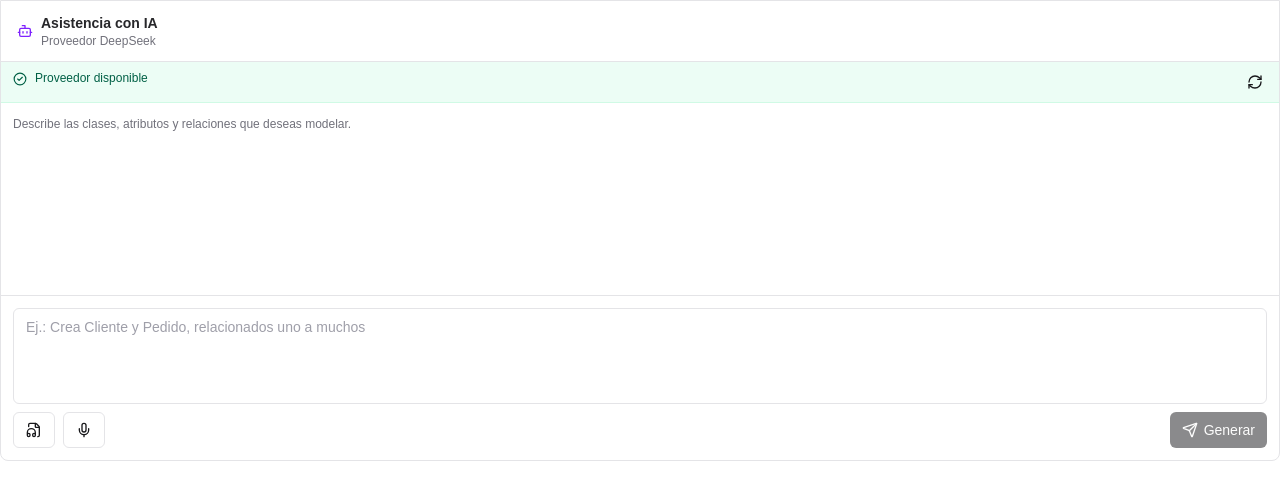
Test: AiAssistantPanel micrófono › usa el servidor como fallback si lo local falla
Expected: the text "Proveedor disponible" is shown, left=35, top=71, right=148, bottom=85
Click the button named "Grabar del micrófono" at (84, 430), box left=63, top=412, right=105, bottom=448
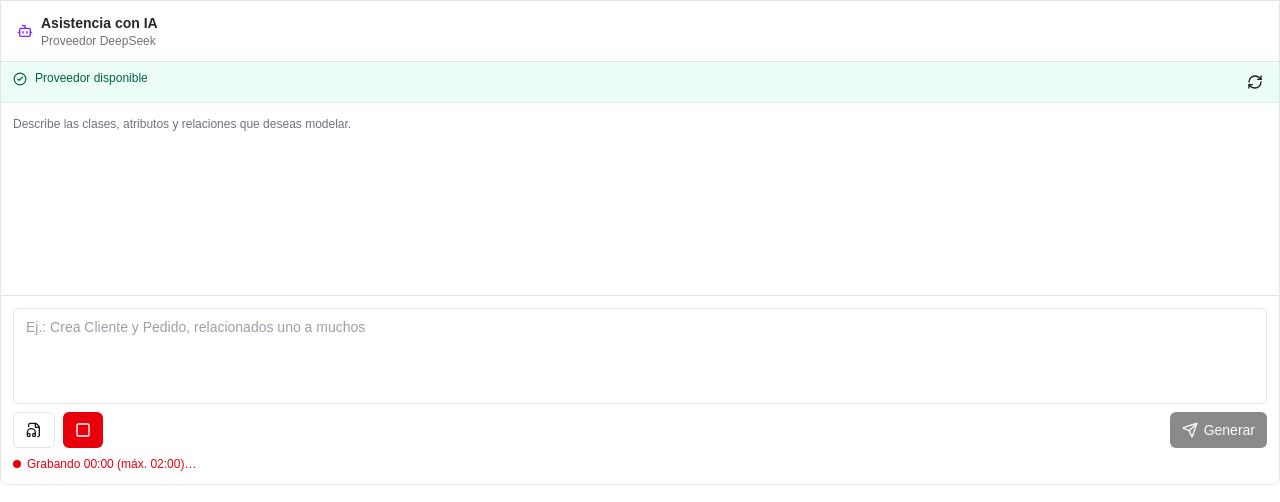
Expected: the button named "Detener grabación" is shown
Click the button named "Detener grabación" at (83, 430), box left=63, top=412, right=103, bottom=448
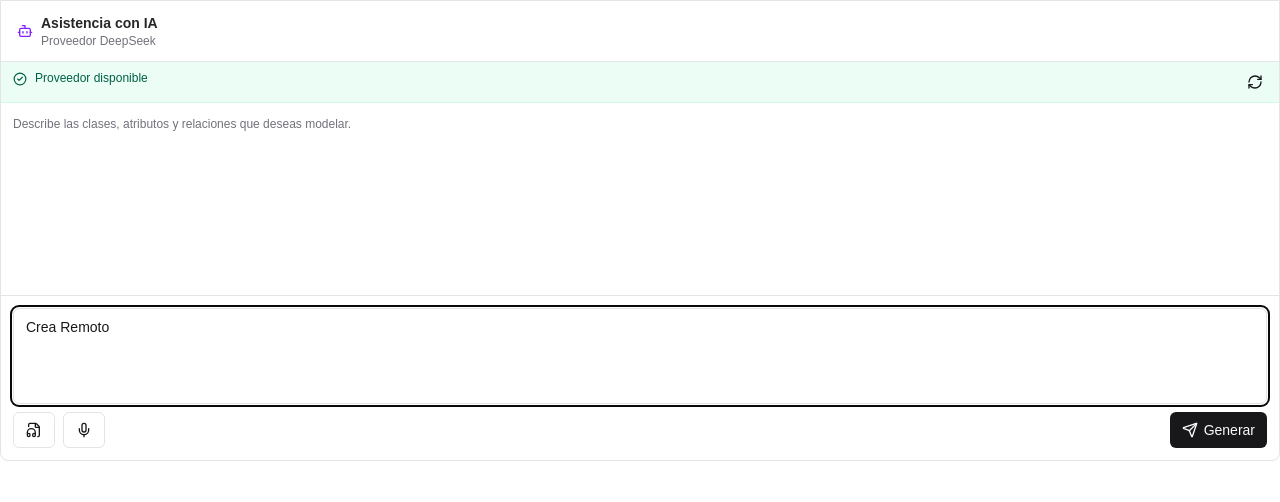
Expected: the text box named "Prompt para asistencia con IA" holds "Crea Remoto", left=13, top=308, right=1267, bottom=404
